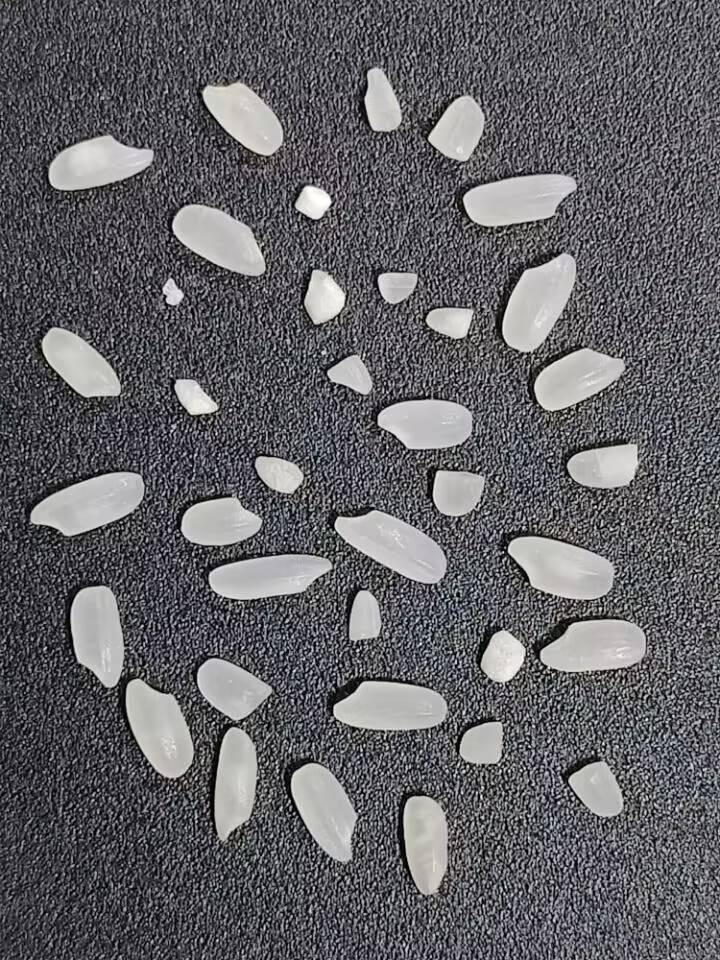broken: (196, 658, 273, 722), (427, 92, 486, 163), (565, 443, 644, 489), (568, 758, 625, 819), (429, 466, 487, 524), (474, 627, 528, 687), (301, 268, 347, 328), (250, 453, 308, 499), (362, 64, 401, 132), (458, 718, 510, 767), (345, 587, 388, 644), (170, 374, 217, 423), (324, 353, 374, 395), (371, 266, 422, 306), (424, 305, 478, 341), (292, 182, 336, 224), (157, 278, 186, 311)
rice: (329, 508, 448, 587), (499, 248, 577, 355), (30, 469, 147, 539), (166, 201, 271, 277), (289, 758, 360, 865), (122, 679, 195, 780), (507, 533, 614, 600), (38, 322, 121, 406), (461, 169, 579, 228), (331, 673, 448, 731), (45, 132, 156, 192), (201, 80, 285, 156), (531, 347, 626, 414), (67, 585, 127, 690), (203, 552, 333, 600), (539, 616, 647, 672), (371, 397, 478, 452), (211, 726, 258, 843), (400, 794, 449, 897), (178, 495, 264, 546)
